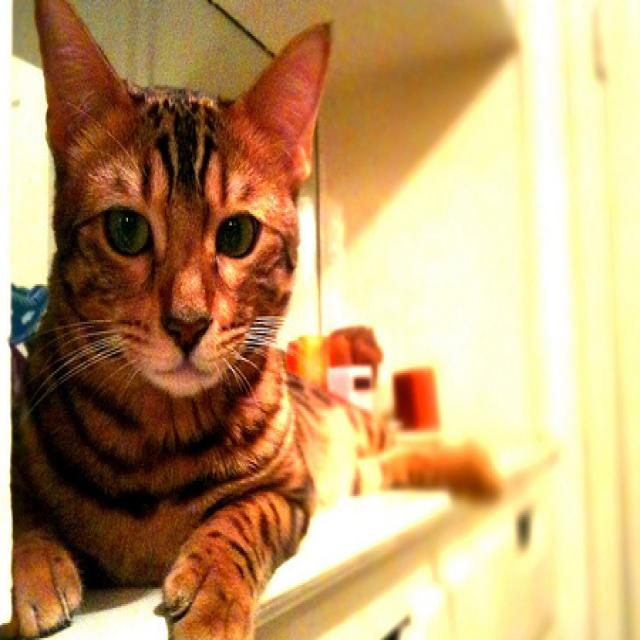Bengal: (4, 0, 505, 640)
